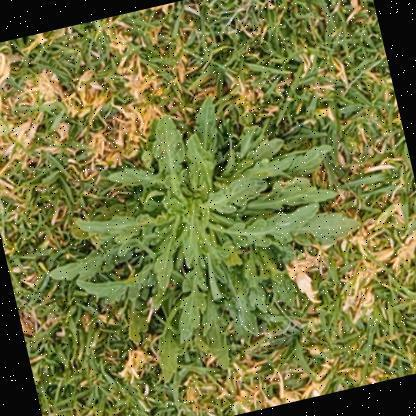Weeds: (17, 68, 386, 406)
